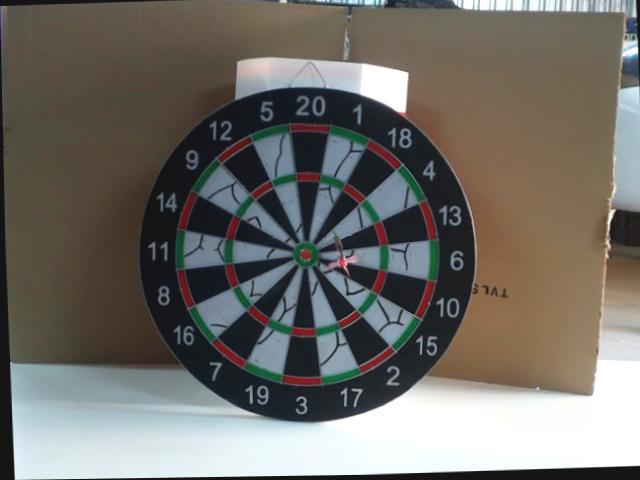single_4: (320, 205, 373, 244)
